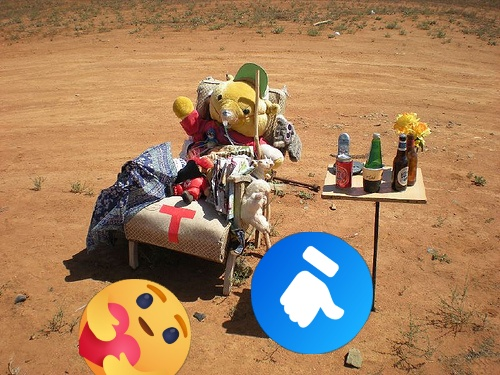care: (79, 279, 191, 375)
like: (251, 232, 373, 354)
